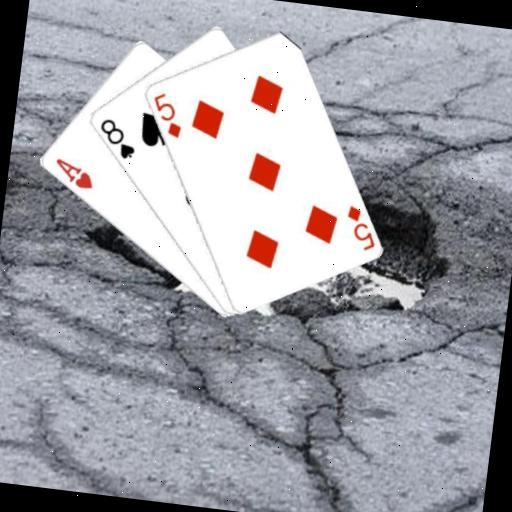5D: (340, 201, 382, 254), (146, 89, 187, 140)
8S: (93, 114, 140, 162)
AH: (49, 155, 98, 192)
